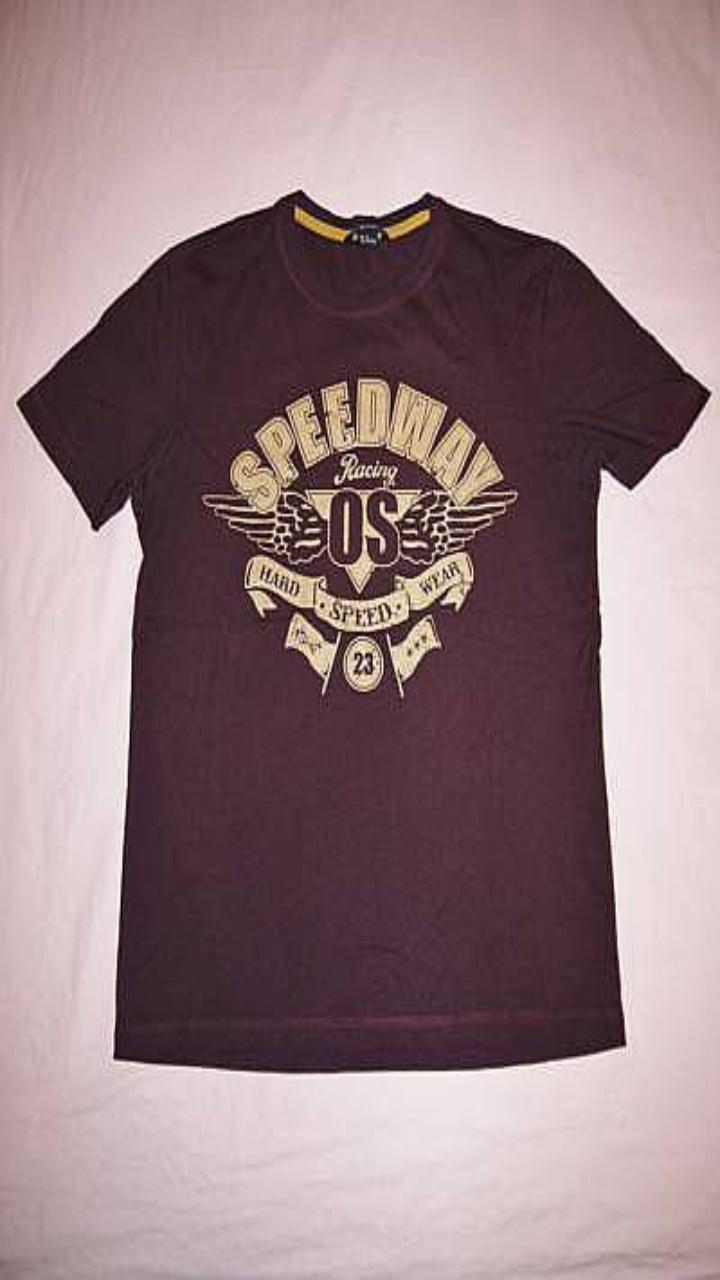T-Shirt: (17, 190, 709, 1071)
